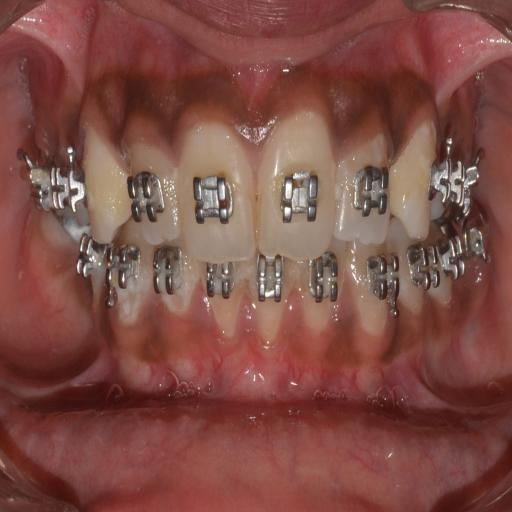correct_brace: (124, 158, 174, 237), (349, 157, 394, 233), (276, 164, 320, 239), (190, 164, 236, 230), (422, 137, 458, 206), (61, 160, 87, 220)
incorrect_brace: (334, 118, 392, 245), (124, 115, 175, 250)
